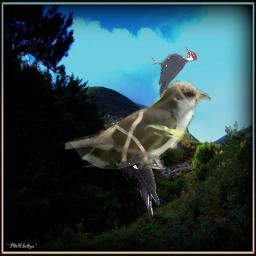Cuckoo: (65, 80, 211, 169)
Woodpecker: (111, 122, 160, 217), (150, 46, 198, 101)
